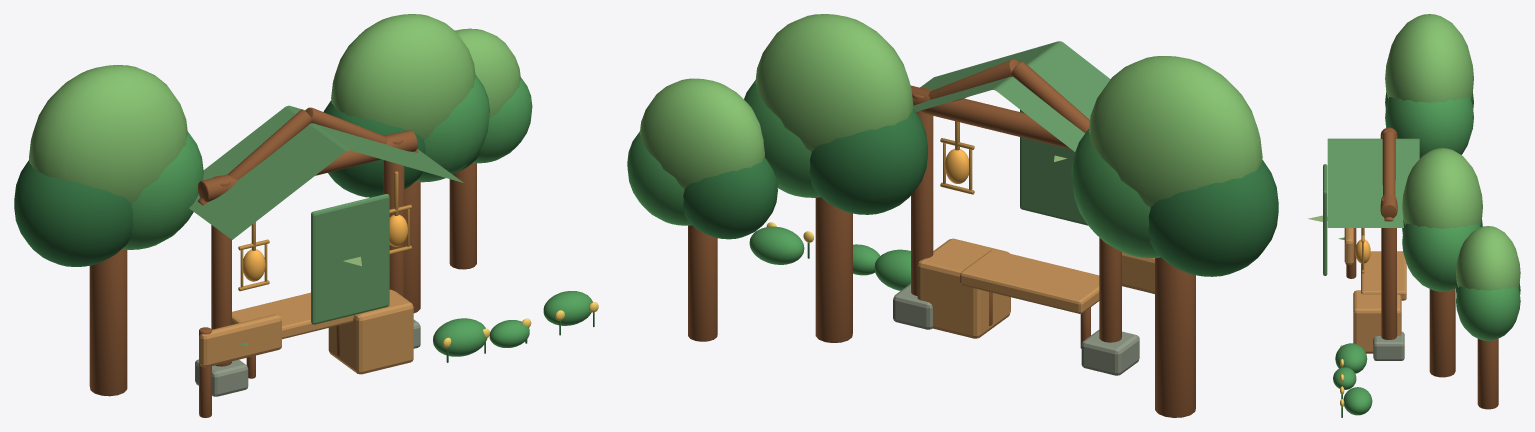
File: meadow_wake_opening_environment.glb
3 views of the same model, side by side, from view 1: azimuth 30°, elevation 25°; view 2: azimuth 150°, elevation 25°; view 3: azimuth 270°, elevation 25° (orthographic). The views are drawn at different scales.
Visible parts, largest first — view 1: TreeCrown_0_2, TreeCrown_1_2, CampCanopy, CampBanner, TreeCrown_0_0, TreeTrunk_0, SupplyCrate, TreeCrown_0_1, TreeCrown_1_1, CampSignBoard, TreeCrown_2_2, TreeTrunk_2 (+16 smaller); view 2: TreeCrown_0_2, TreeCrown_1_2, TreeCrown_0_0, TreeCrown_2_2, TreeCrown_1_0, CampCanopy, TreeTrunk_0, TreeCrown_0_1, SupplyCrate, CampTable, TreeCrown_2_0, TreeTrunk_1 (+16 smaller); view 3: TreeCrown_0_2, CampCanopy, TreeCrown_1_2, TreeCrown_0_1, TreeCrown_1_1, TreeCrown_2_2, TreeCrown_2_1, TreeTrunk_1, CampPost_2.55, SupplyCrate, TreeTrunk_2, CampTable (+10 smaller).
Part boxes in pixels (x1,y1,x2,y2): TreeCrown_0_2: (29,65,187,203); TreeCrown_1_2: (331,14,475,139); CampCanopy: (189,105,463,239); CampBanner: (311,194,389,324); TreeCrown_0_0: (14,160,133,266); TreeTrunk_0: (89,249,127,396); SupplyCrate: (328,289,413,374); TreeCrown_0_1: (122,131,203,249); TreeCrown_1_1: (416,74,489,182); CampSignBoard: (199,314,281,367); TreeCrown_2_2: (455,28,520,118); TreeTrunk_2: (449,163,476,269); TreeCrown_0_2: (1088,56,1262,207); TreeCrown_1_2: (755,14,913,151); TreeCrown_0_0: (1148,160,1278,276); TreeCrown_2_2: (639,78,764,188); TreeCrown_1_0: (809,108,927,214); CampCanopy: (913,41,1110,151); TreeTrunk_0: (1155,257,1195,417); TreeCrown_0_1: (1071,129,1160,258); SupplyCrate: (917,238,1010,338); CampTable: (960,249,1099,313); TreeCrown_2_0: (683,157,777,239); TreeTrunk_1: (815,197,852,342); TreeCrown_0_2: (1385,14,1473,102); CampCanopy: (1327,138,1419,227); TreeCrown_1_2: (1402,148,1482,228); TreeCrown_0_1: (1385,97,1473,158); TreeCrown_1_1: (1402,223,1480,291); TreeCrown_2_2: (1456,226,1520,290); TreeCrown_2_1: (1456,286,1520,340); TreeTrunk_1: (1429,289,1455,377); CampPost_2.55: (1381,197,1396,339); SupplyCrate: (1353,290,1401,353); TreeTrunk_2: (1477,338,1498,409); CampTable: (1361,251,1406,300).
Bounding box in the file's own units: 7.29 × 4.08 × 3.27.
